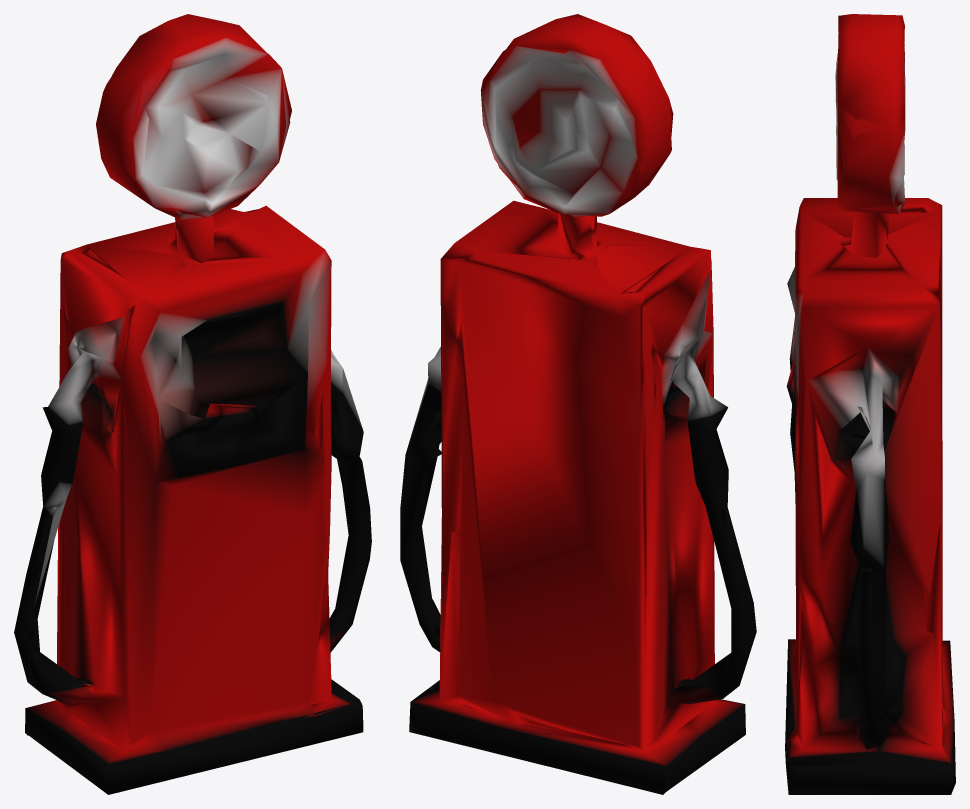
File: gen3d-gas-pump-lod1.glb
The picture shows the model from 3 angles, left to right: view 1: azimuth 30°, elevation 25°; view 2: azimuth 150°, elevation 25°; view 3: azimuth 270°, elevation 25°; orthographic projection.
Parts seen in each view (by area): view 1: part_0; view 2: part_0; view 3: part_0.
Boxes of the visible parts, <box> form: part_0: <box>14,14,371,794</box>; part_0: <box>400,14,756,794</box>; part_0: <box>785,14,955,794</box>.
Size of the model in its own units: 0.5221 by 0.9962 by 0.2172.
